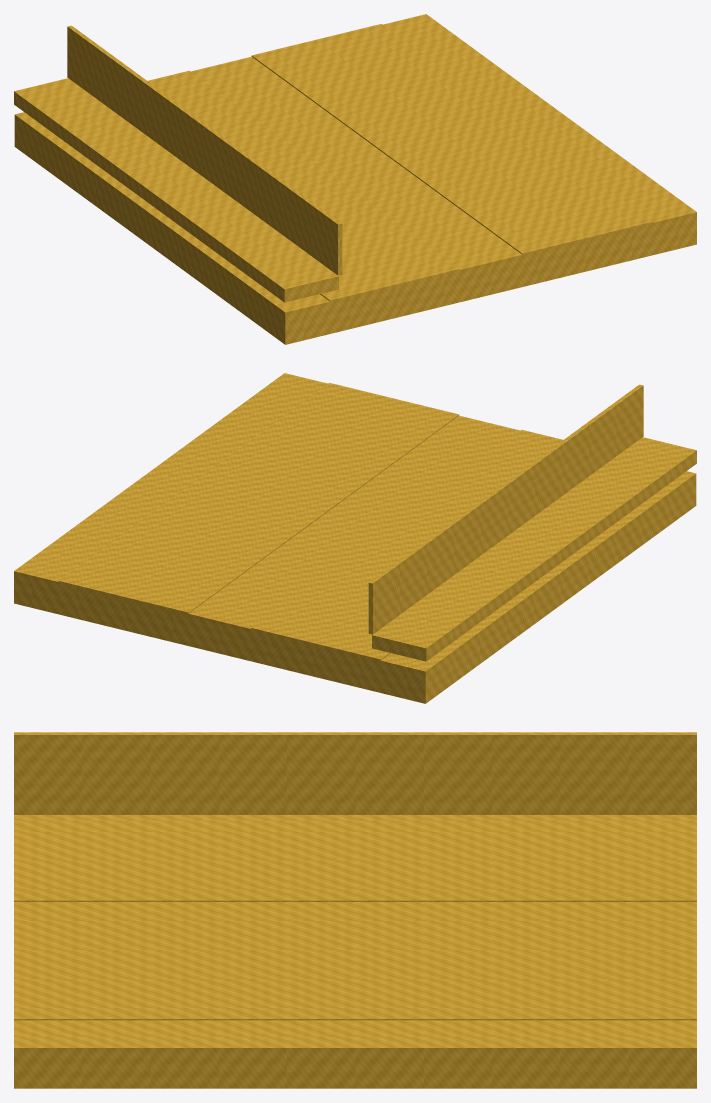
The model's file is PZ_Metro_10m_OPTIONAL_UCX_Collision_Proxies.glb.
The picture shows the model from 3 angles, top to bottom: view 1: azimuth 30°, elevation 25°; view 2: azimuth 150°, elevation 25°; view 3: azimuth 270°, elevation 25°; orthographic projection. The views are drawn at different scales.
Parts seen in each view (by area): view 1: UCX_Tunnel_Invert_01, UCX_TrackEast_Ballast, UCX_Evac_Walkway_01, UCX_RailGuard_01, UCX_TrackWest_Ballast; view 2: UCX_Tunnel_Invert_01, UCX_TrackEast_Ballast, UCX_Evac_Walkway_01, UCX_RailGuard_01, UCX_TrackWest_Ballast; view 3: UCX_Tunnel_Invert_01, UCX_TrackWest_Ballast, UCX_TrackEast_Ballast, UCX_RailGuard_01, UCX_Evac_Walkway_01.
Part boxes in pixels (left/top/right/bottom): UCX_Tunnel_Invert_01: left=14, top=14, right=696, bottom=344; UCX_TrackEast_Ballast: left=251, top=24, right=652, bottom=258; UCX_Evac_Walkway_01: left=14, top=78, right=338, bottom=302; UCX_RailGuard_01: left=67, top=25, right=342, bottom=275; UCX_TrackWest_Ballast: left=148, top=70, right=459, bottom=306; UCX_Tunnel_Invert_01: left=14, top=373, right=696, bottom=703; UCX_TrackEast_Ballast: left=58, top=383, right=459, bottom=617; UCX_Evac_Walkway_01: left=372, top=437, right=696, bottom=661; UCX_RailGuard_01: left=368, top=384, right=643, bottom=634; UCX_TrackWest_Ballast: left=251, top=429, right=562, bottom=664; UCX_Tunnel_Invert_01: left=14, top=815, right=696, bottom=1088; UCX_TrackWest_Ballast: left=14, top=820, right=696, bottom=901; UCX_TrackEast_Ballast: left=14, top=939, right=696, bottom=1020; UCX_RailGuard_01: left=14, top=732, right=696, bottom=799; UCX_Evac_Walkway_01: left=14, top=799, right=696, bottom=814.
Bounding box in the file's own units: 8.79 × 2.19 × 10.
1 material, 1 textured.
